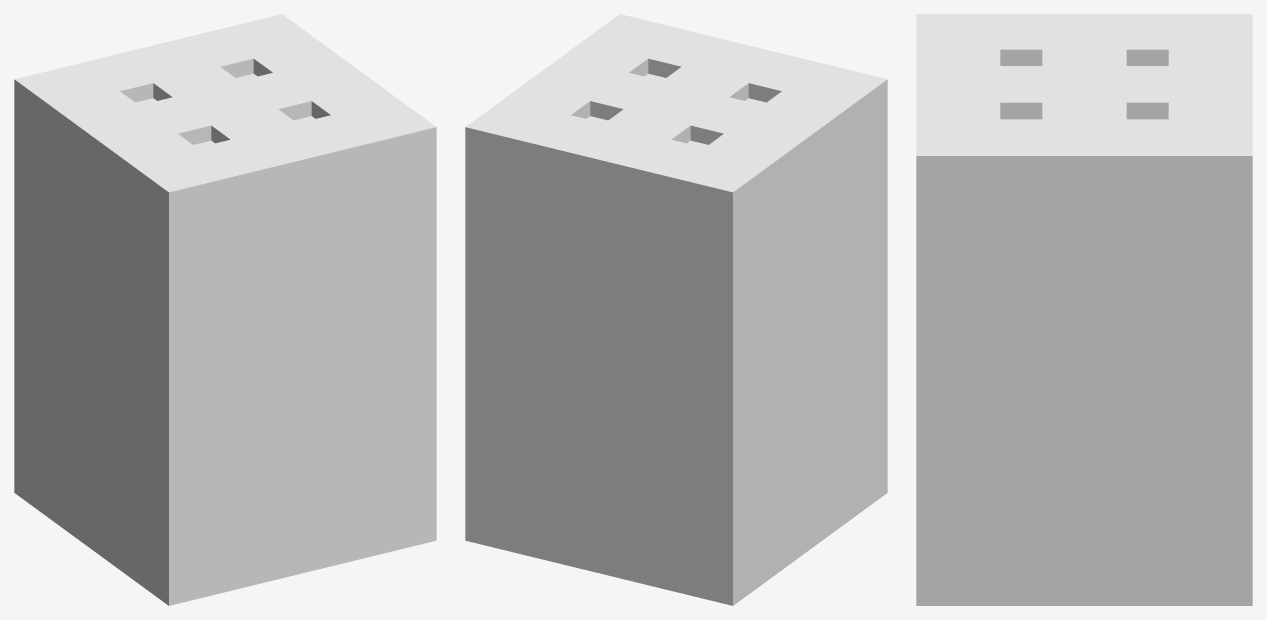
File: Shaker 1.fbx
The picture shows the model from 3 angles, left to right: view 1: azimuth 30°, elevation 25°; view 2: azimuth 150°, elevation 25°; view 3: azimuth 270°, elevation 25°; orthographic projection. The views are drawn at different scales.
Visible parts, largest first — view 1: Shaker; view 2: Shaker; view 3: Shaker.
Part boxes in pixels (x1,y1,x2,y2): Shaker: (14,14,436,605); Shaker: (465,14,887,605); Shaker: (916,14,1252,605).
Size of the model in its own units: 59.94 by 88.49 by 59.94.
